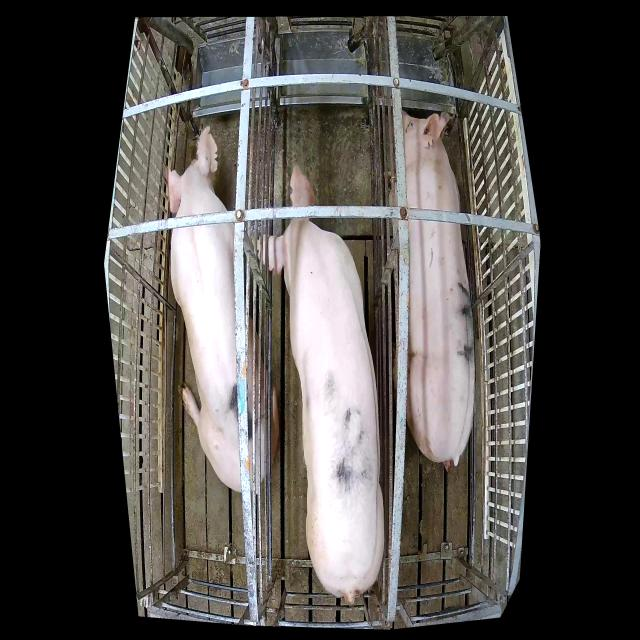pig: (252, 165, 385, 606), (165, 126, 279, 494), (389, 108, 475, 470)
